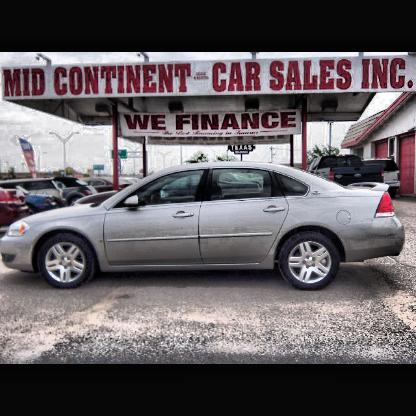Chevrolet Impala Sedan 2007: (3, 162, 410, 292)
